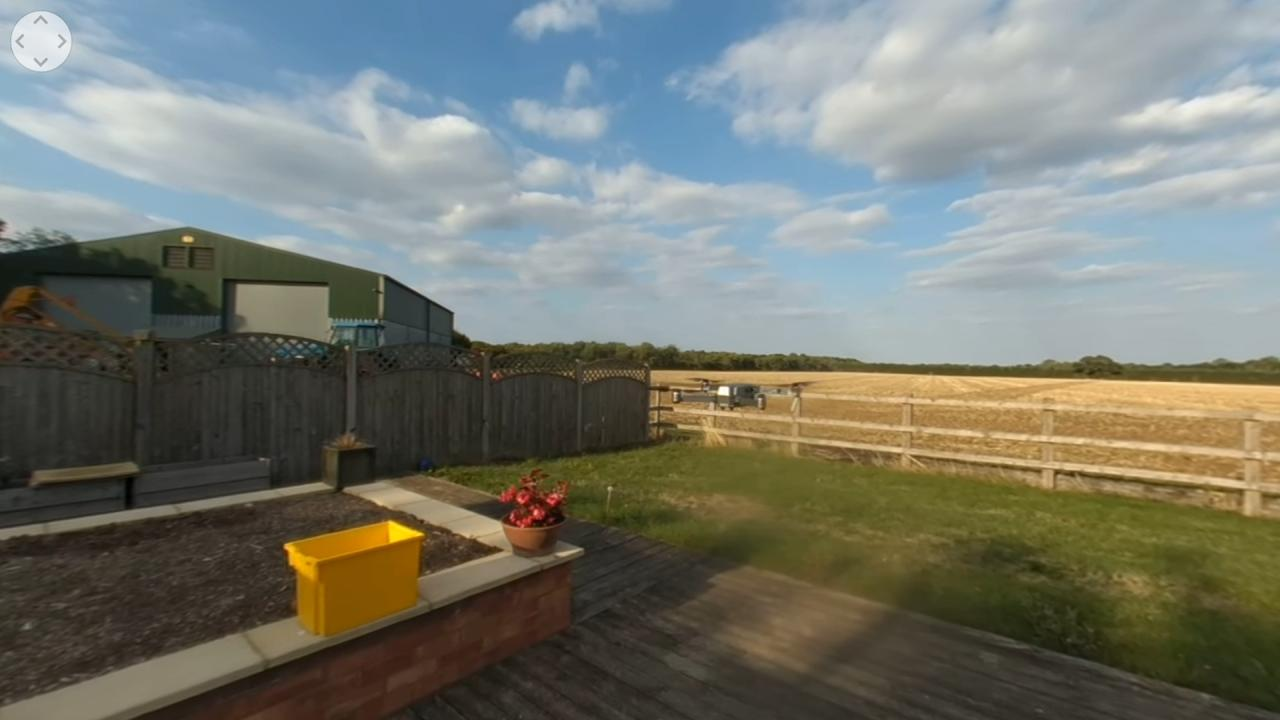Drone: (632, 359, 832, 428)
